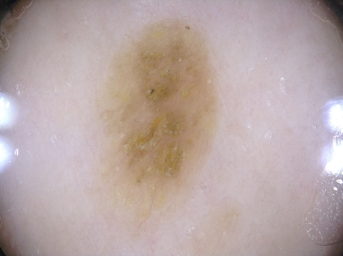seborrheic keratosis: (86, 12, 237, 231)
